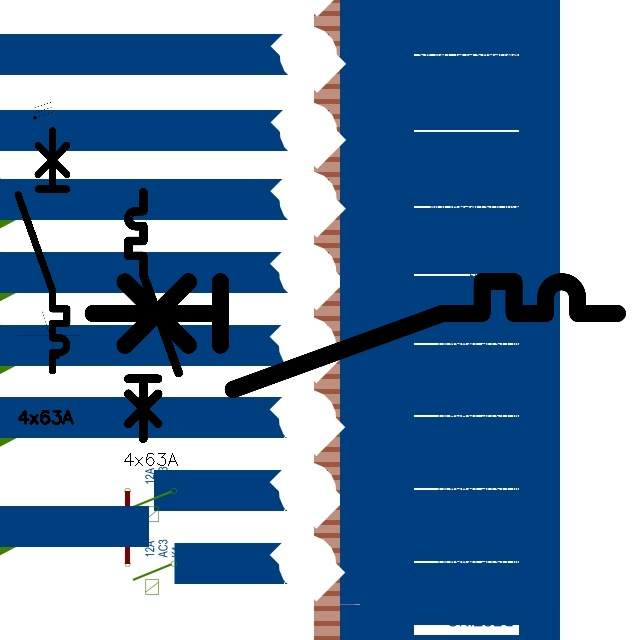interruptor_termomagnetico: (79, 268, 631, 403), (122, 186, 185, 445), (12, 124, 73, 376)
